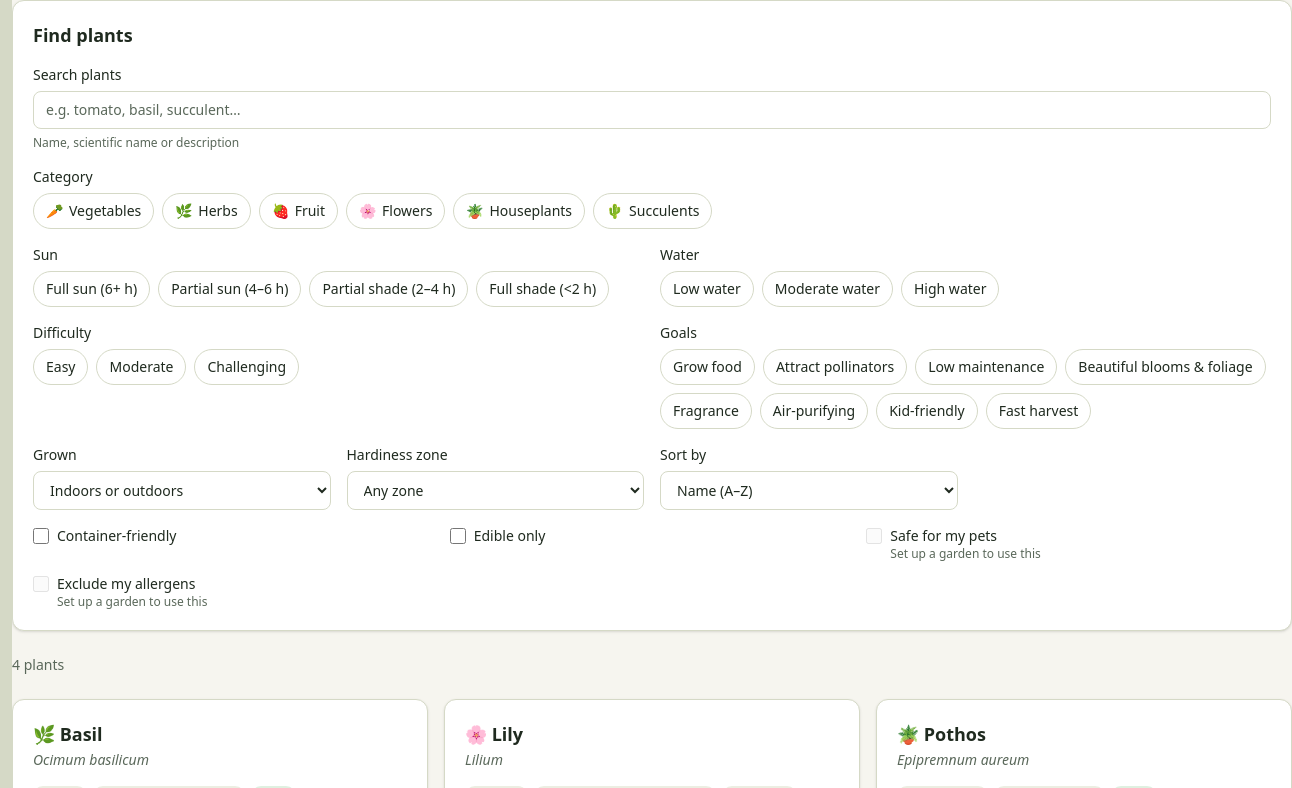
PlantLibrary › filters by search text
Type "bas" into the search field labelled "Search plants" at (652, 110), box [33,91,1271,129]
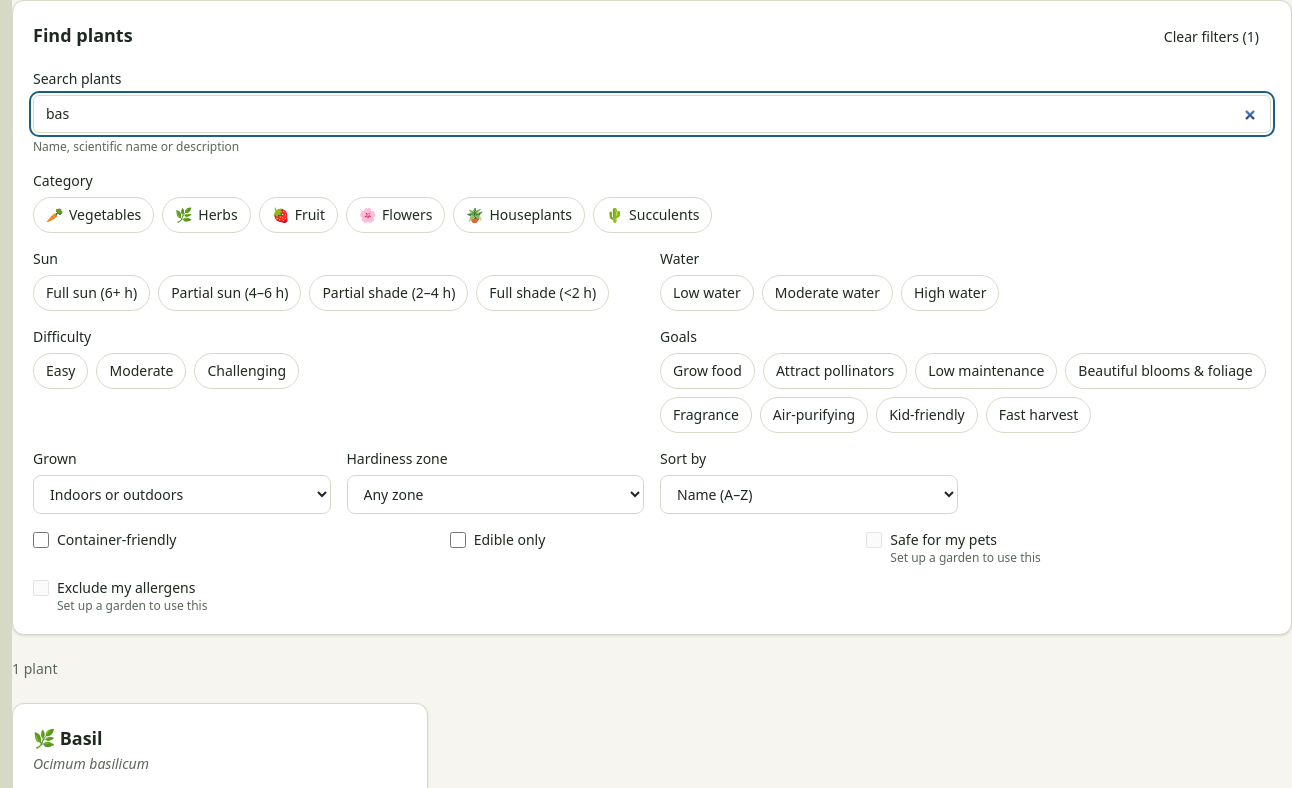
Expected: the text "1 plant" is shown, [12,659,58,678]
